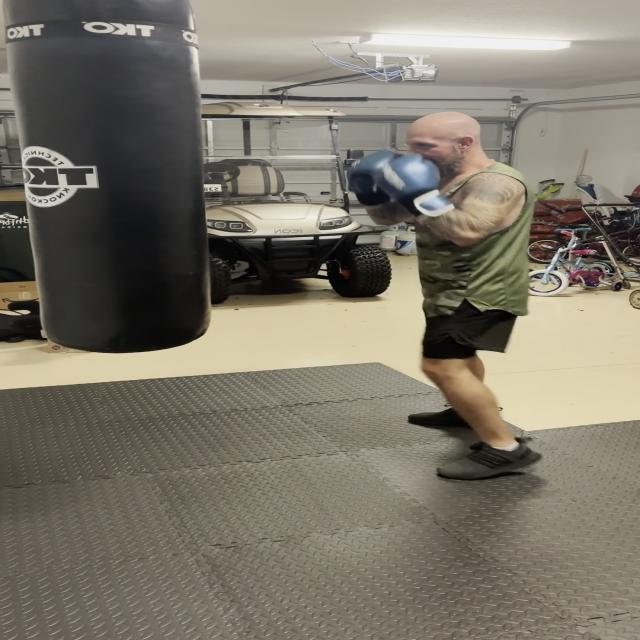bag: (2, 0, 205, 351)
no punch: (337, 108, 535, 258)
